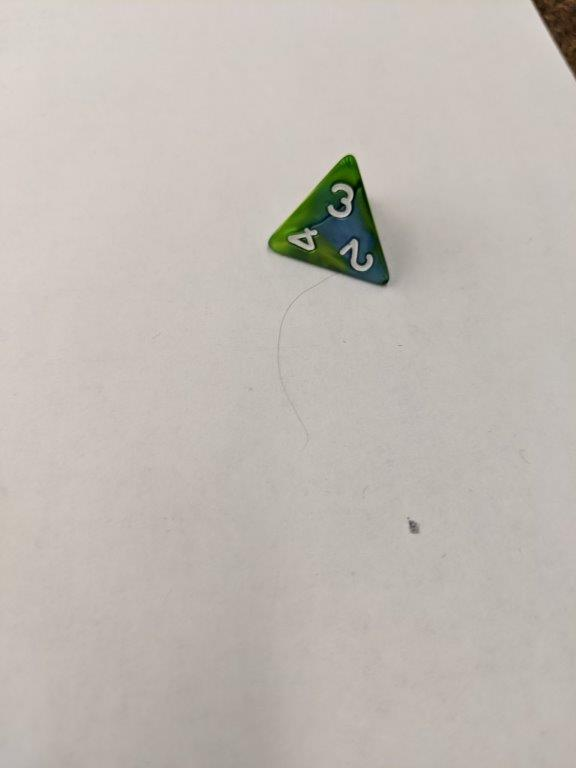d4-3: (269, 152, 389, 287)
